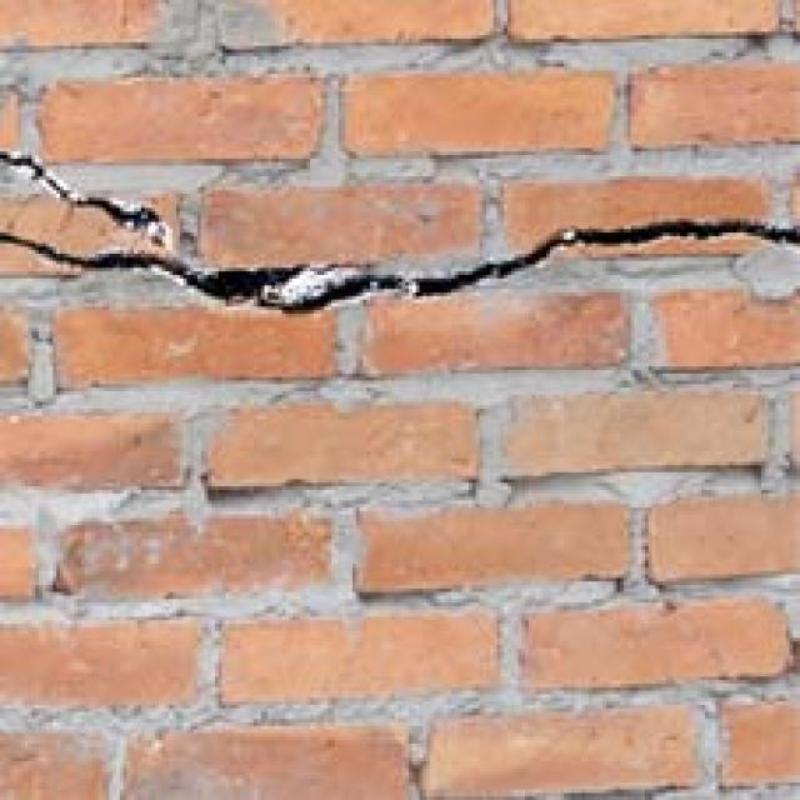pothole: (0, 219, 800, 312), (0, 152, 162, 243)
